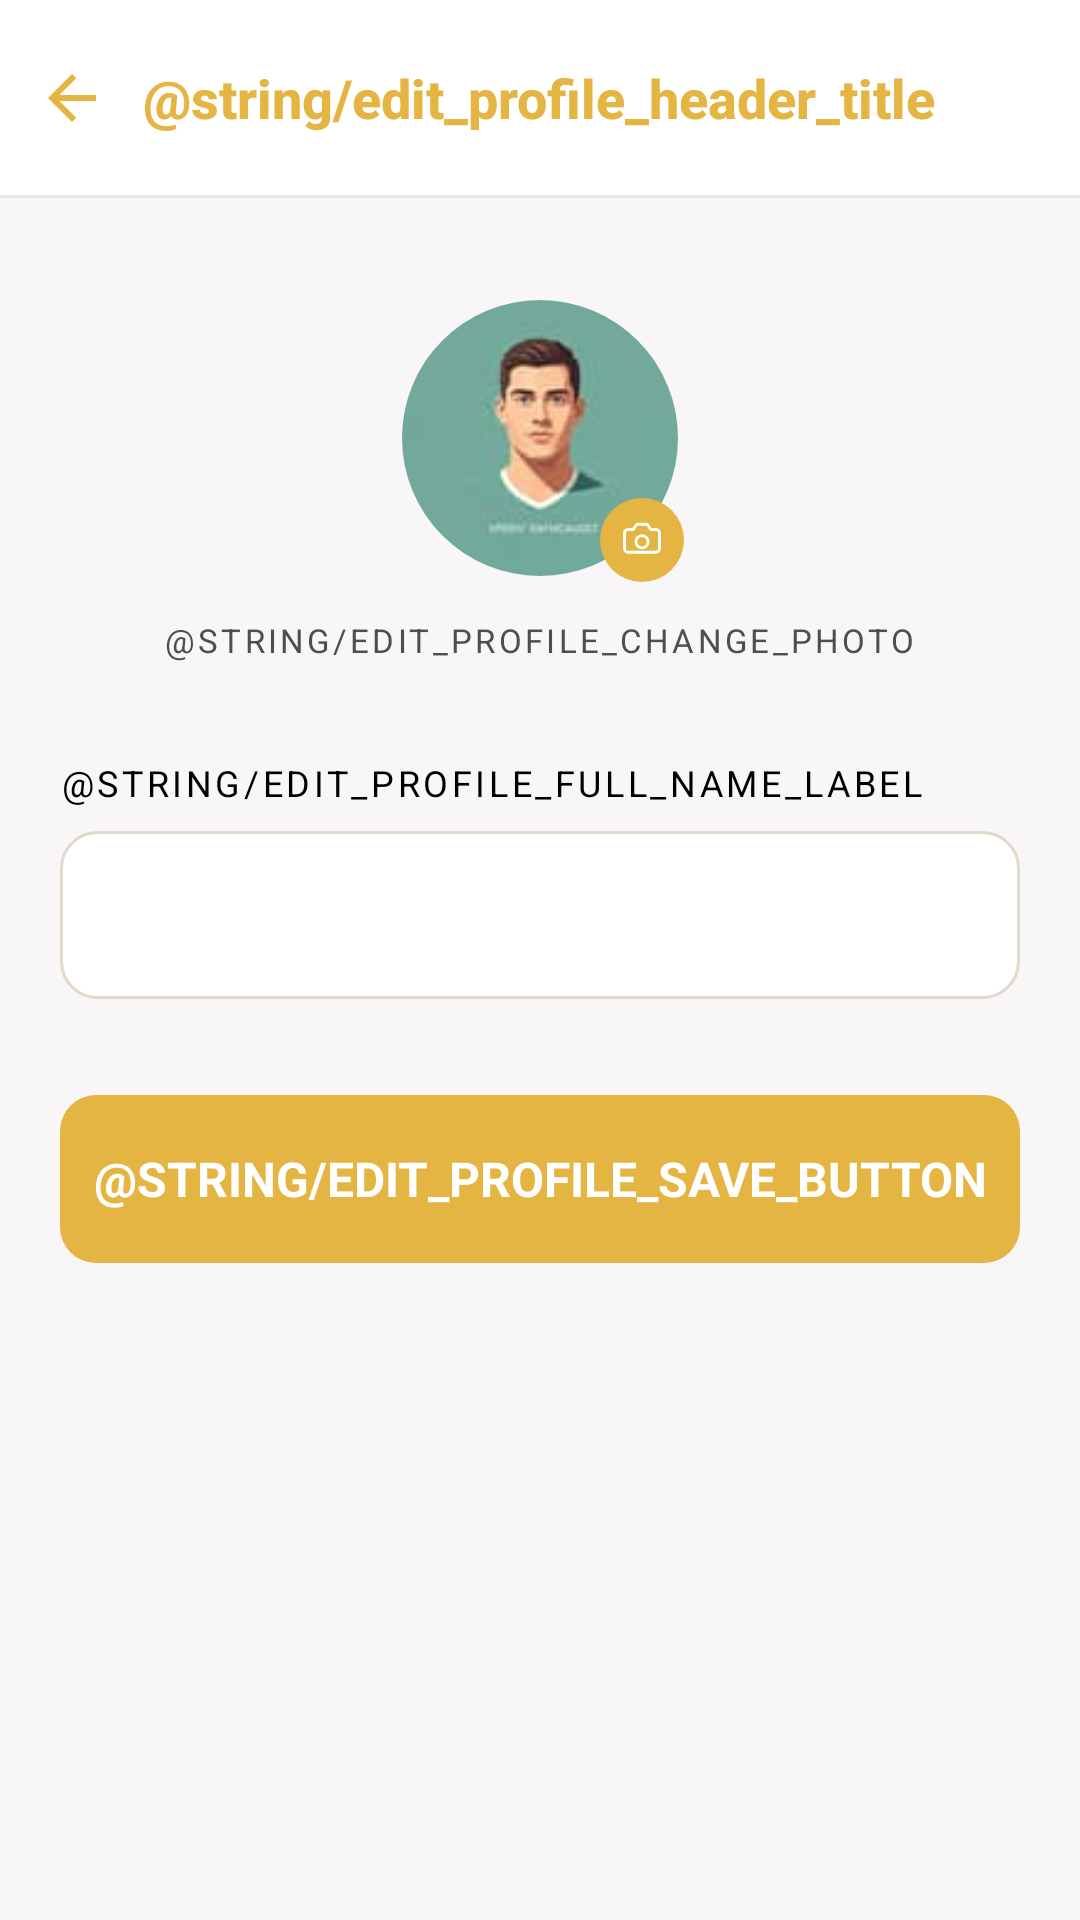

Screen size 1080×1920. Icon name, then its center in pixels as point (x, y):
camera: point (642, 538)
Volver: point (72, 98)
